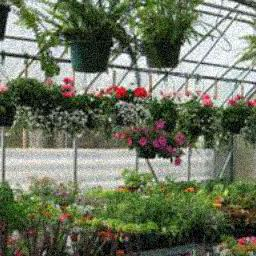Matera: (58, 0, 136, 84), (135, 0, 210, 75), (0, 0, 42, 64), (241, 5, 256, 87)
